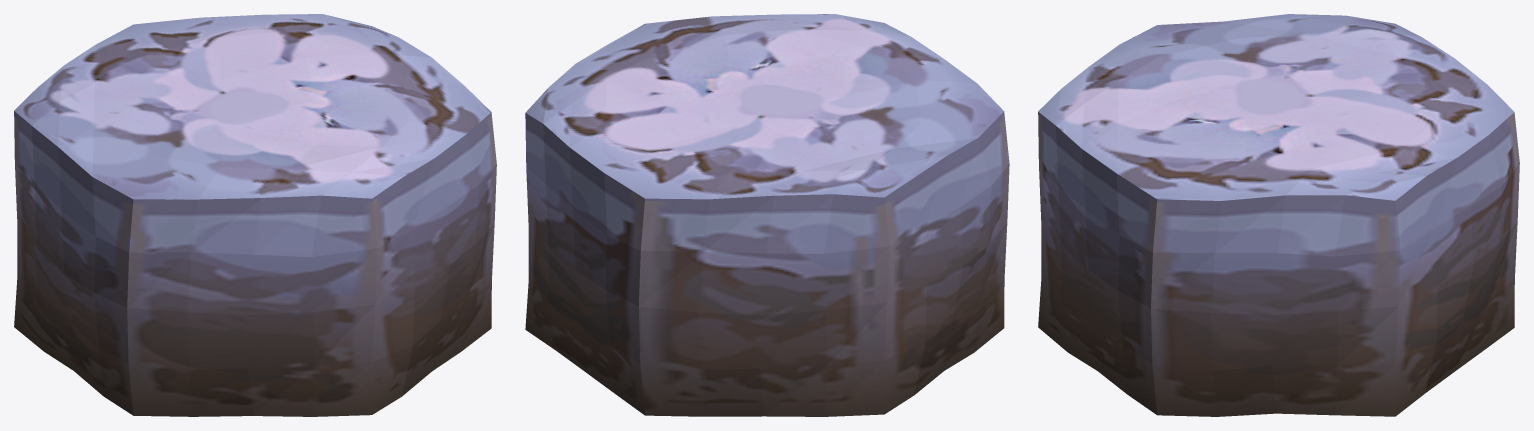
File: tile_snow.fbx
The picture shows the model from 3 angles, left to right: view 1: azimuth 30°, elevation 25°; view 2: azimuth 150°, elevation 25°; view 3: azimuth 270°, elevation 25°; orthographic projection.
Visible parts, largest first — view 1: Cylinder002; view 2: Cylinder002; view 3: Cylinder002.
Boxes of the visible parts, box(x1,y1,x2,y2) form: Cylinder002: box(14, 14, 496, 416); Cylinder002: box(525, 14, 1009, 416); Cylinder002: box(1038, 14, 1519, 416).
Bounding box in the file's own units: 4.36 × 4.72 × 2.49.
1 material, 1 textured.
